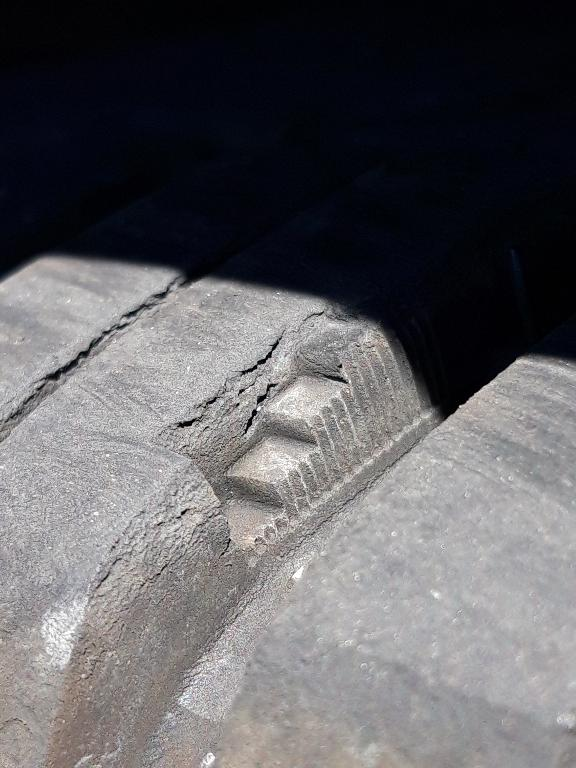temoin:80: (143, 282, 450, 574)
